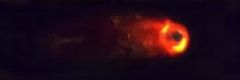keyhole: (169, 29, 185, 44)
